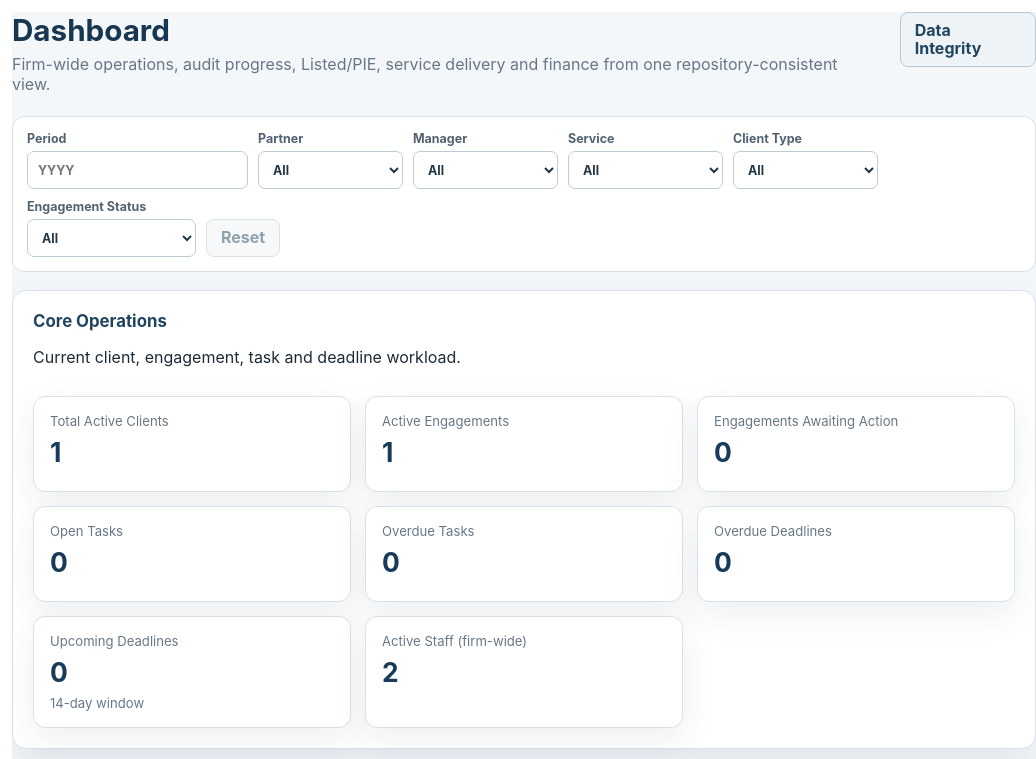
Test: React component interaction › applies and clears Dashboard period filtering
Expected: the text "1" below "Total Active Clients" is shown, 50,436 -> 61,468
Step 1. Type "2099" into the field labelled "Period" → [138, 170], box 27,151 -> 248,189
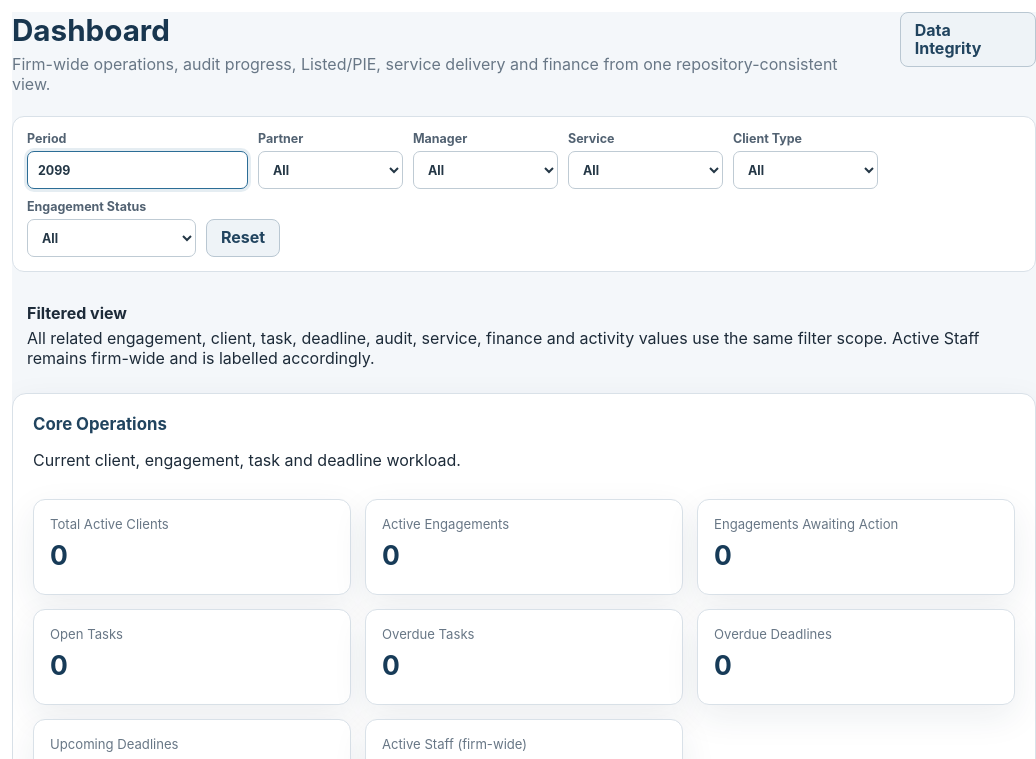
Now the text "0" below "Total Active Clients" is shown, box 50,539 -> 68,571
Step 2. Click the button "Reset" → [243, 238], box 206,219 -> 280,257
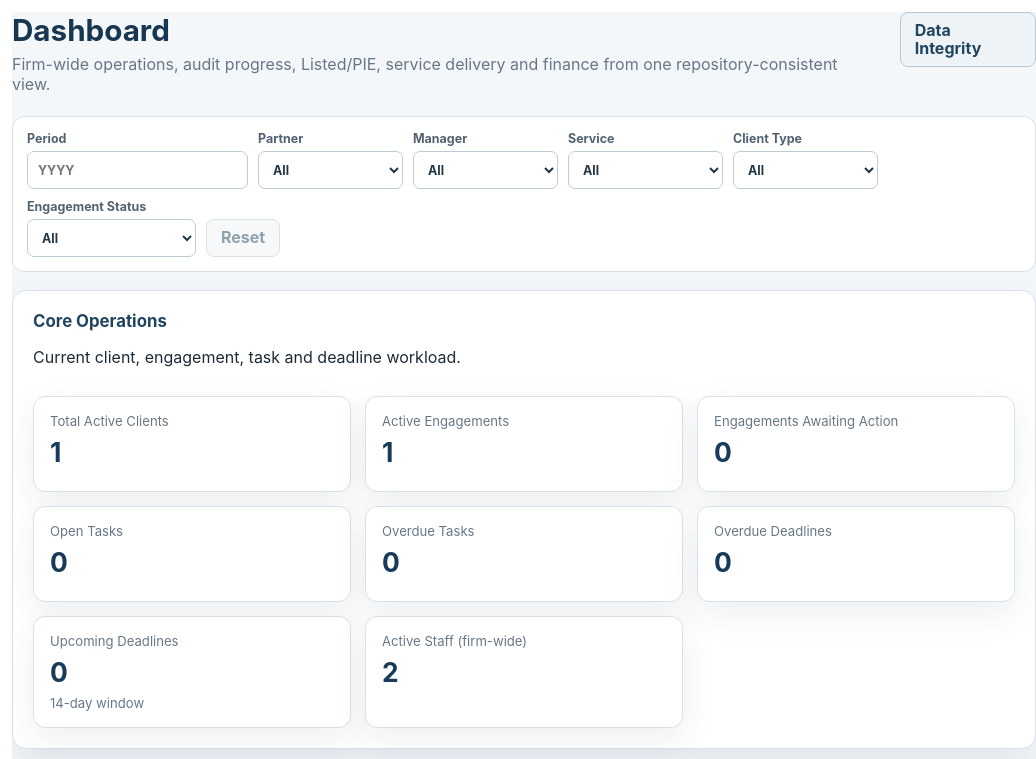
Now the text "1" below "Total Active Clients" is shown, box 50,436 -> 61,468
